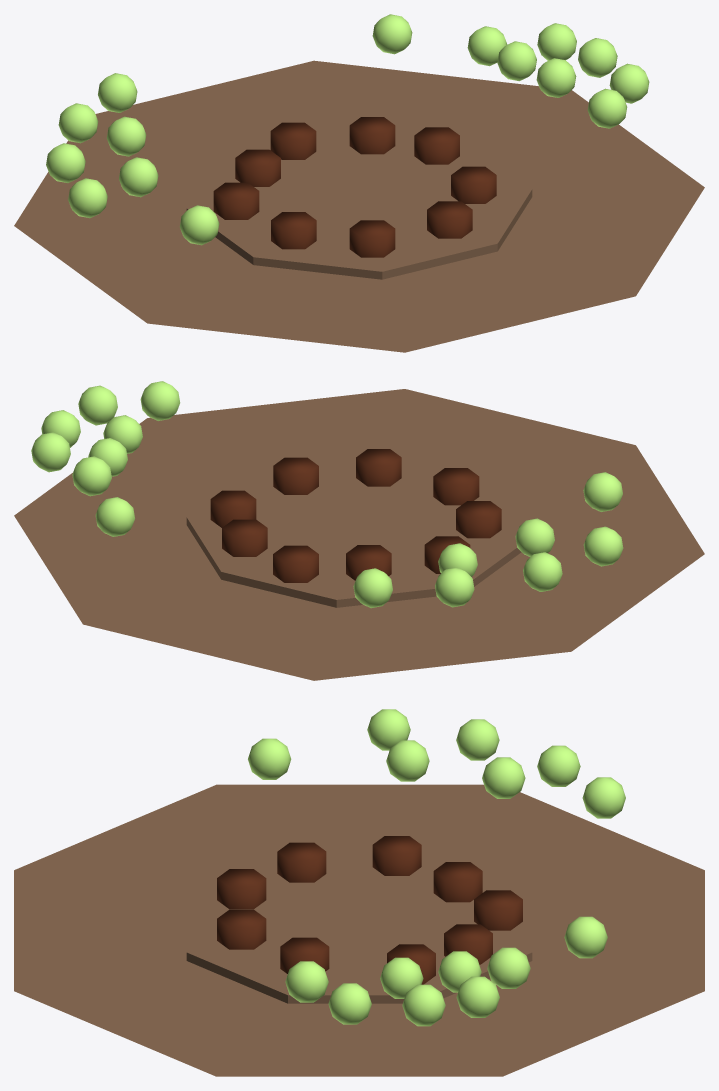
File: Town.glb
3 views of the same model, one above another, from view 1: azimuth 30°, elevation 25°; view 2: azimuth 150°, elevation 25°; view 3: azimuth 270°, elevation 25° (orthographic). The views are drawn at different scales.
Visible parts, largest first — view 1: Circle, Cylinder.002, Cylinder.008, Cylinder, Cylinder.007, Cylinder.005, Cylinder.003, Cylinder.001, Cylinder.004, Cylinder.006, Icosphere.003, Icosphere.014 (+13 smaller); view 2: Circle, Cylinder.004, Cylinder.003, Cylinder.008, Cylinder.001, Cylinder.007, Cylinder.002, Cylinder.005, Icosphere.010, Icosphere.008, Icosphere.002, Icosphere.004 (+13 smaller); view 3: Circle, Cylinder.001, Cylinder.002, Cylinder.003, Cylinder.006, Cylinder, Cylinder.007, Cylinder.008, Icosphere.007, Icosphere.013, Icosphere.008, Icosphere (+13 smaller).
Boxes of the visible parts, <box> form: Circle: <box>14,60,704,352</box>; Cylinder.002: <box>349,220,395,257</box>; Cylinder.008: <box>349,117,395,154</box>; Cylinder: <box>213,182,259,219</box>; Cylinder.007: <box>270,122,316,159</box>; Cylinder.005: <box>414,127,459,164</box>; Cylinder.003: <box>427,201,472,238</box>; Cylinder.001: <box>271,212,316,249</box>; Cylinder.004: <box>451,166,496,203</box>; Cylinder.006: <box>235,149,280,186</box>; Icosphere.003: <box>46,143,85,182</box>; Icosphere.014: <box>497,41,536,81</box>; Circle: <box>14,389,704,680</box>; Cylinder.004: <box>273,457,318,494</box>; Cylinder.003: <box>356,449,401,486</box>; Cylinder.008: <box>222,519,267,556</box>; Cylinder.001: <box>456,501,501,538</box>; Cylinder.007: <box>273,545,318,582</box>; Cylinder.002: <box>433,468,479,505</box>; Cylinder.005: <box>210,490,256,527</box>; Icosphere.010: <box>31,432,70,472</box>; Icosphere.008: <box>72,456,111,496</box>; Icosphere.002: <box>583,526,623,566</box>; Icosphere.004: <box>353,568,392,608</box>; Circle: <box>14,784,704,1076</box>; Cylinder.001: <box>277,842,326,882</box>; Cylinder.002: <box>217,869,266,909</box>; Cylinder.003: <box>217,909,266,949</box>; Cylinder.006: <box>433,862,482,902</box>; Cylinder: <box>372,836,421,875</box>; Cylinder.007: <box>474,890,522,930</box>; Cylinder.008: <box>444,924,492,964</box>; Icosphere.007: <box>564,916,607,958</box>; Icosphere.013: <box>402,984,445,1026</box>; Icosphere.008: <box>487,947,530,988</box>; Icosphere: <box>386,740,429,781</box>.
Bounding box in the file's own units: 7.47 × 1.17 × 7.39.
